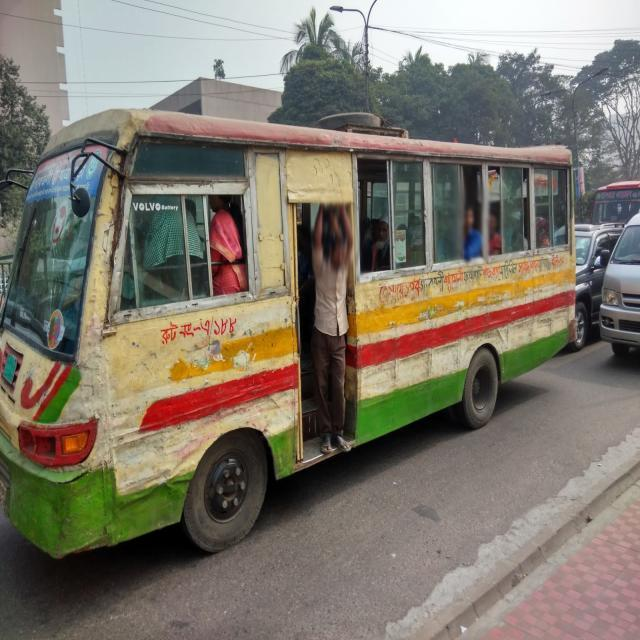bus: (0, 106, 578, 561)
